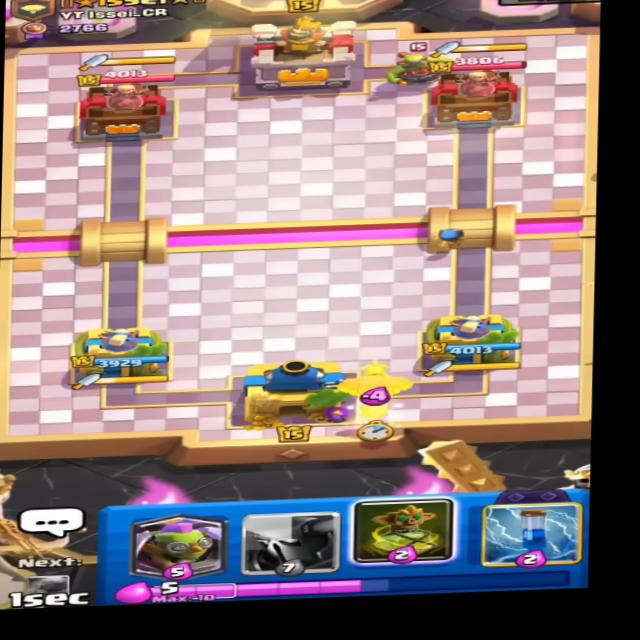goblin-demolisher: (381, 40, 457, 89)
